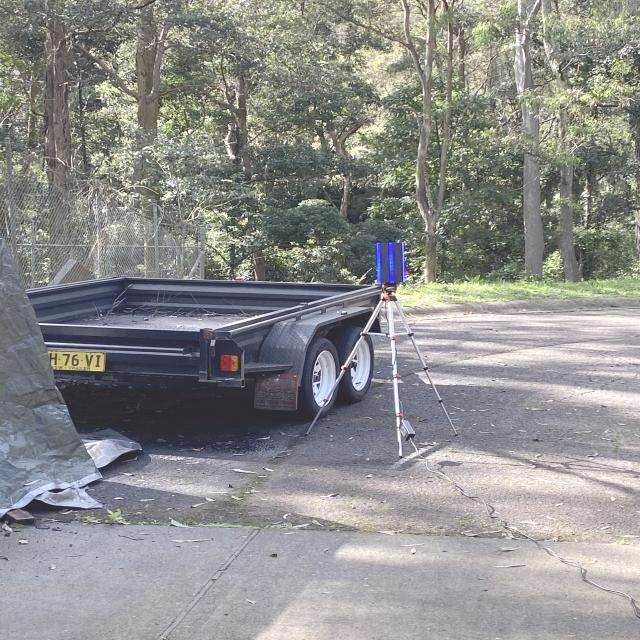matrix: (375, 240, 409, 285)
